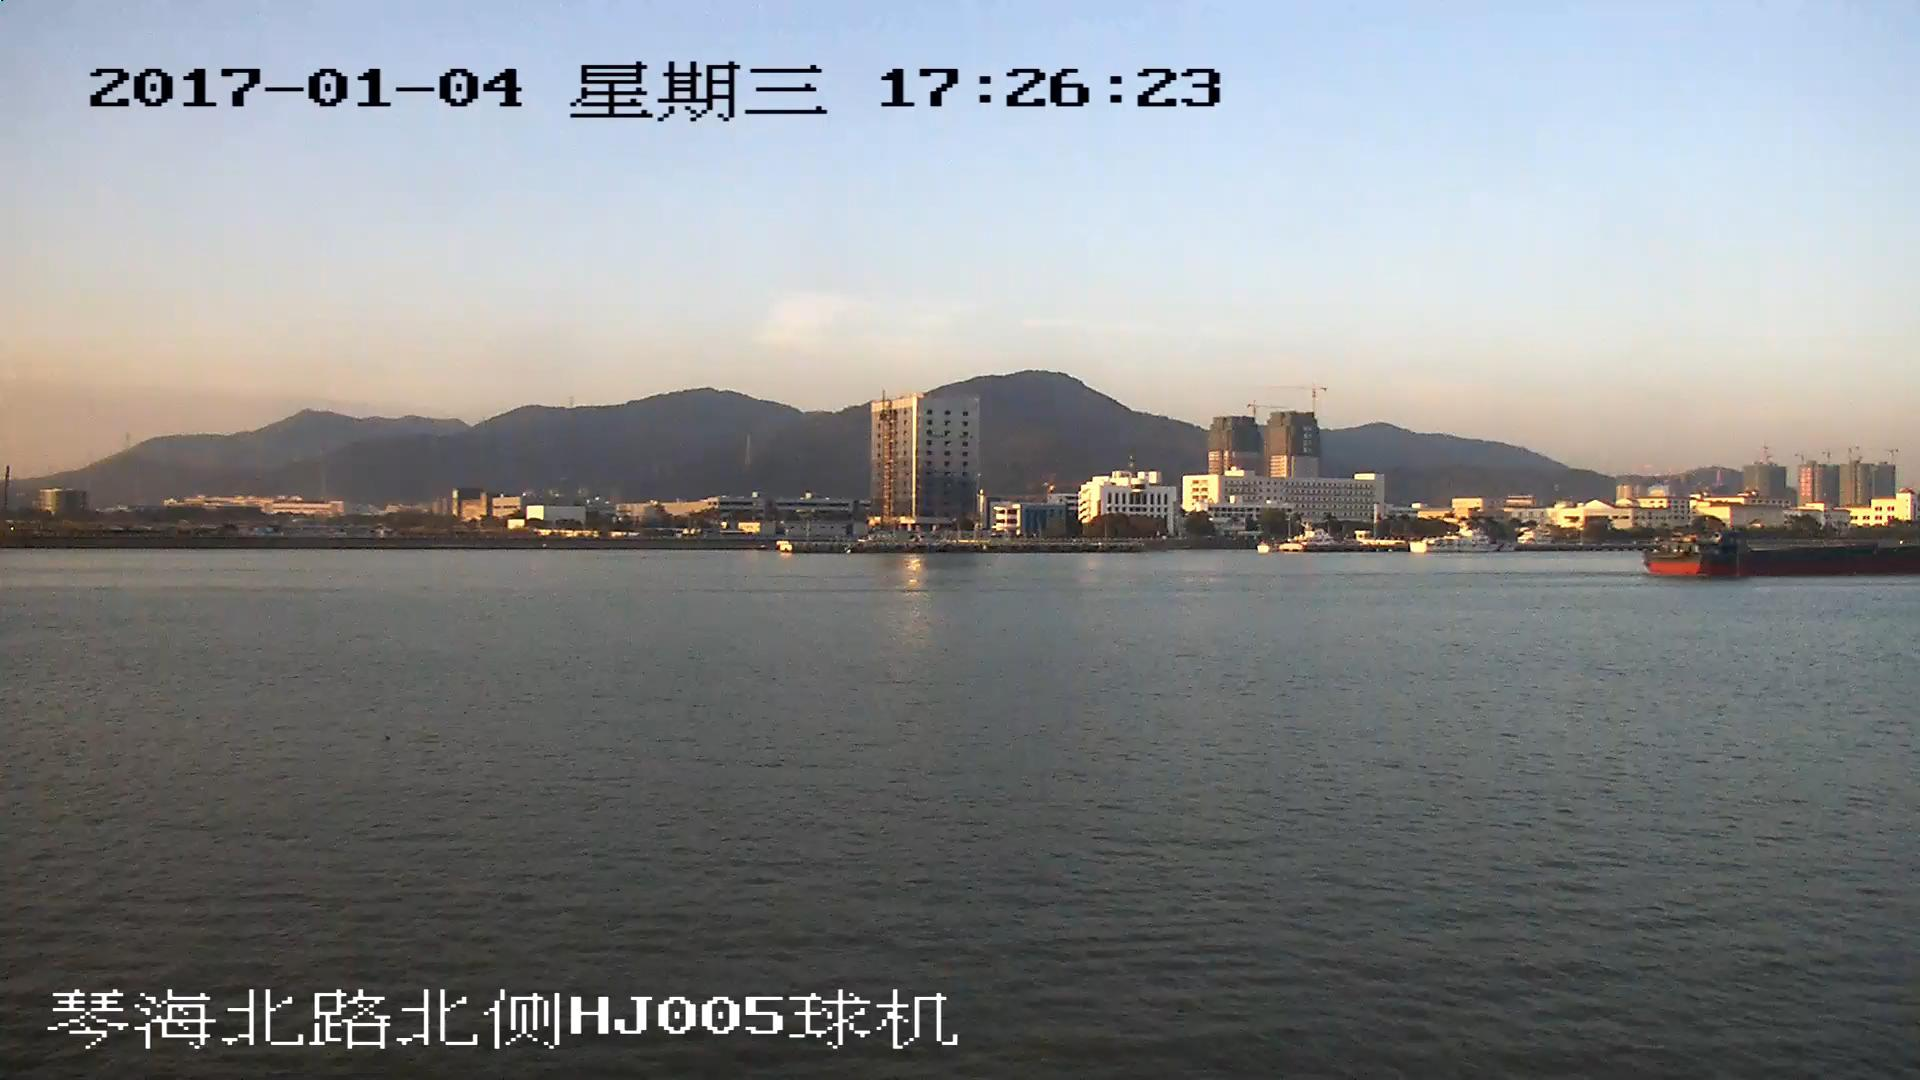Ship: (1644, 525, 1920, 580)
